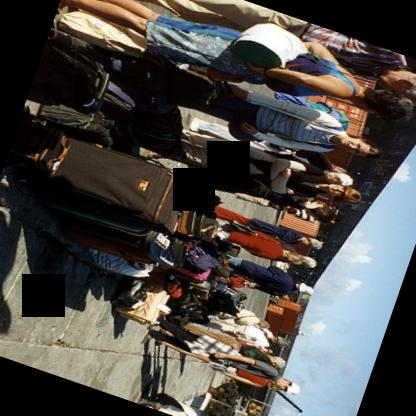backpack: (31, 29, 104, 108), (36, 103, 124, 147), (273, 92, 349, 132), (105, 79, 135, 111), (237, 344, 274, 367)
handbag: (217, 63, 353, 320), (230, 23, 352, 87), (228, 123, 336, 148), (182, 246, 220, 274), (205, 68, 243, 83)
suitcase: (22, 137, 191, 236), (40, 202, 154, 263), (98, 49, 176, 114), (5, 119, 72, 178), (113, 289, 170, 326), (176, 206, 213, 238), (209, 285, 240, 305)
